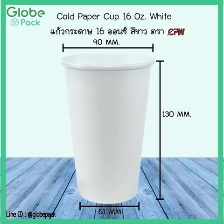paper_cup: (55, 46, 161, 207)
